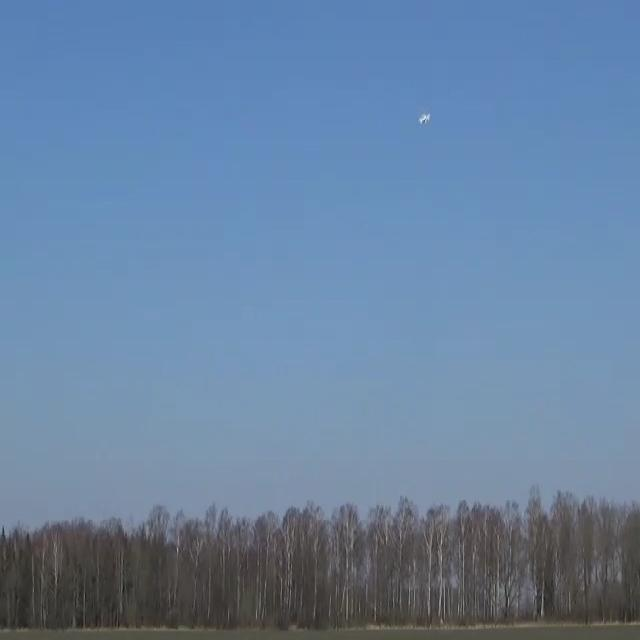drone: (418, 113, 431, 126)
